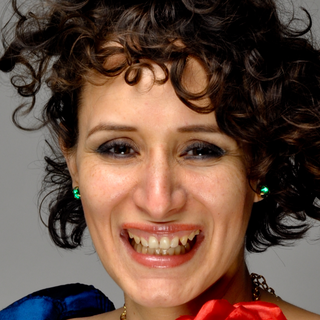eye: (176, 139, 228, 164), (92, 138, 141, 163)
